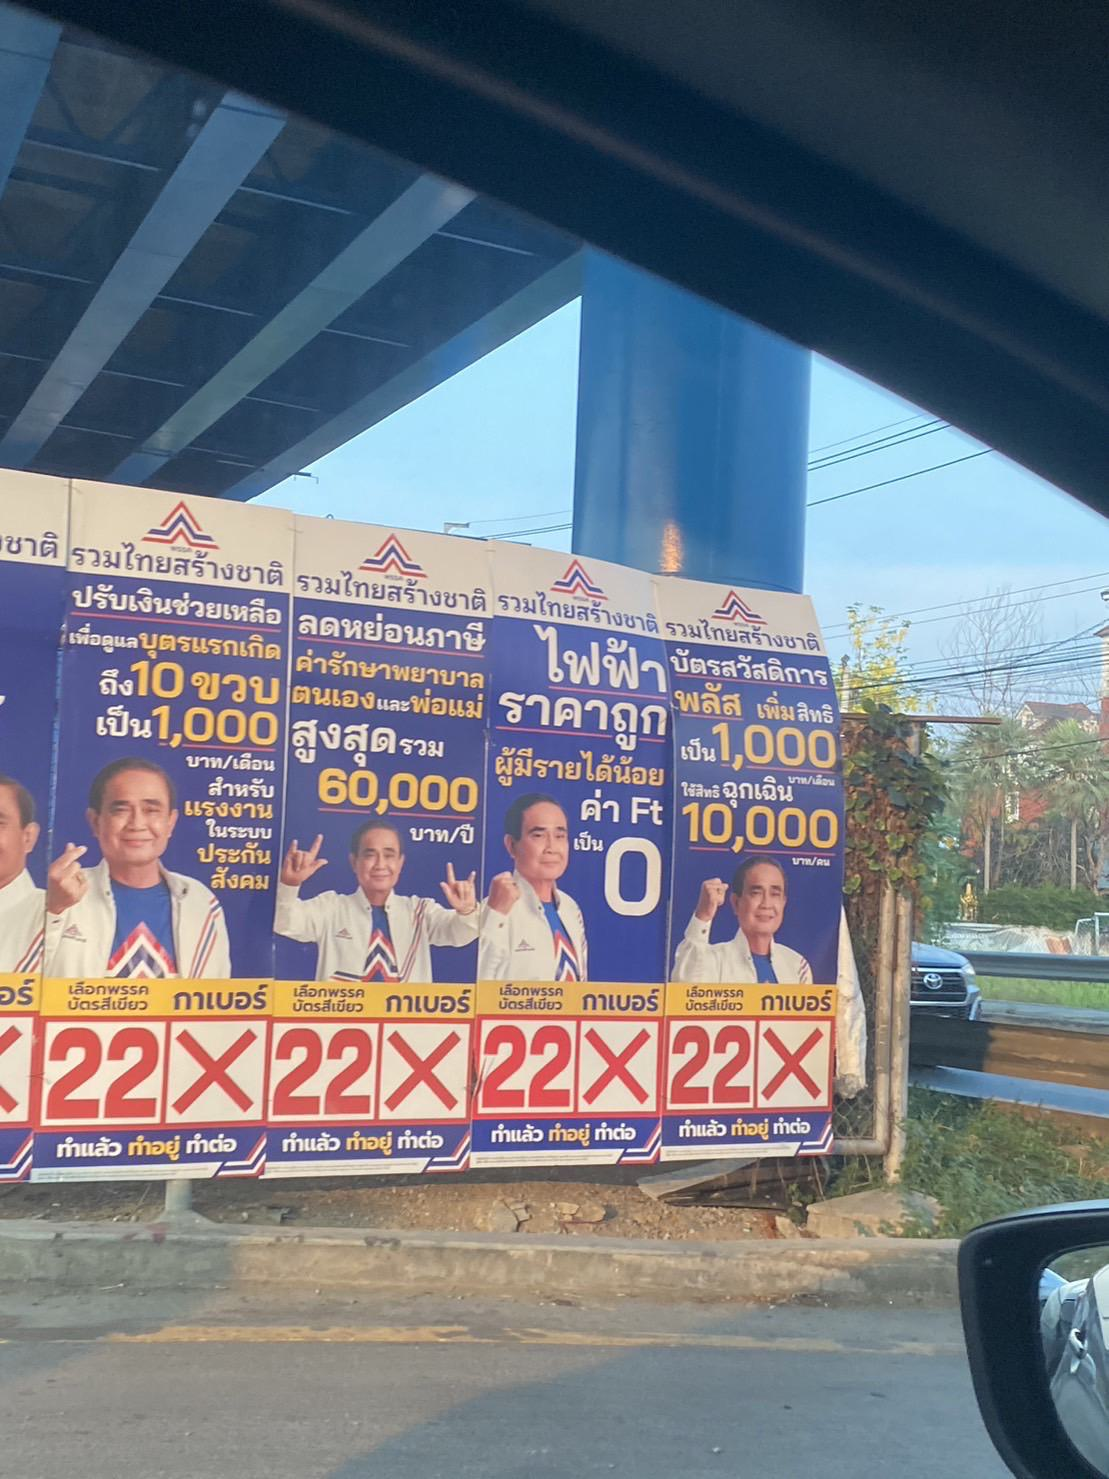Banner: (33, 474, 276, 1149), (285, 510, 490, 1175), (656, 575, 864, 1166), (490, 535, 679, 1156)
